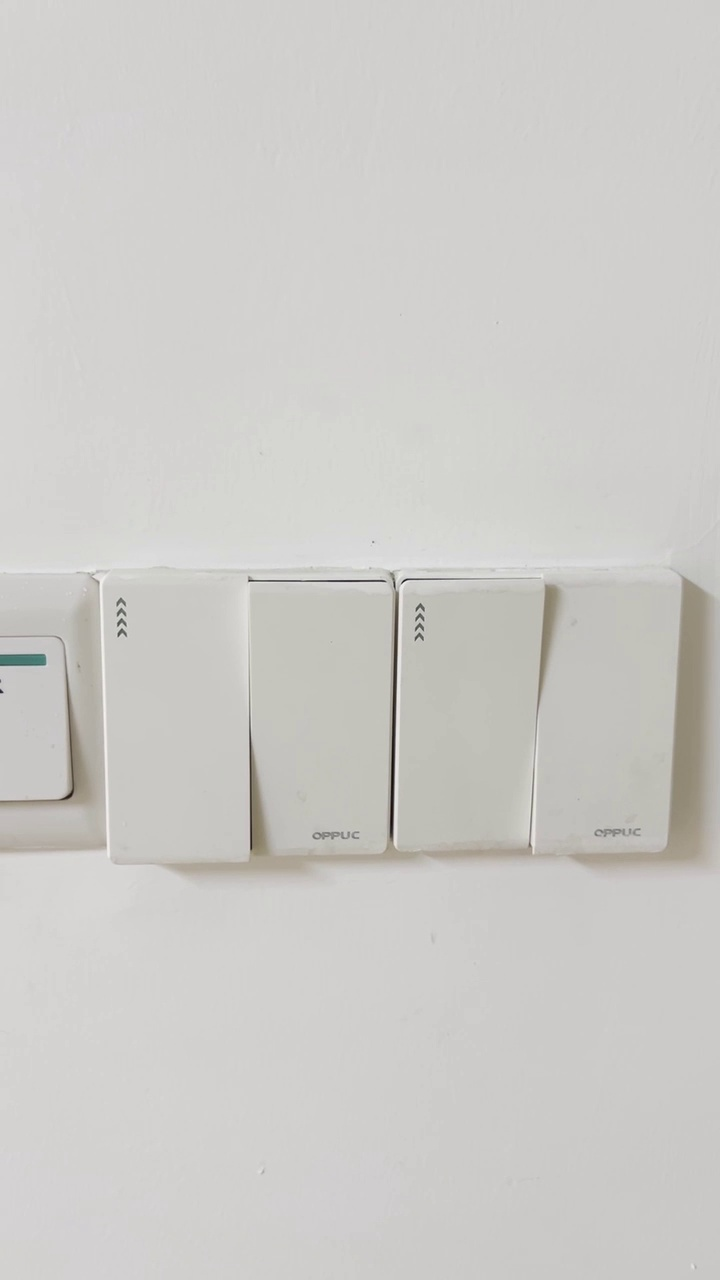button1: (103, 577, 246, 855), (398, 582, 532, 853), (542, 579, 675, 850), (259, 587, 385, 844)
